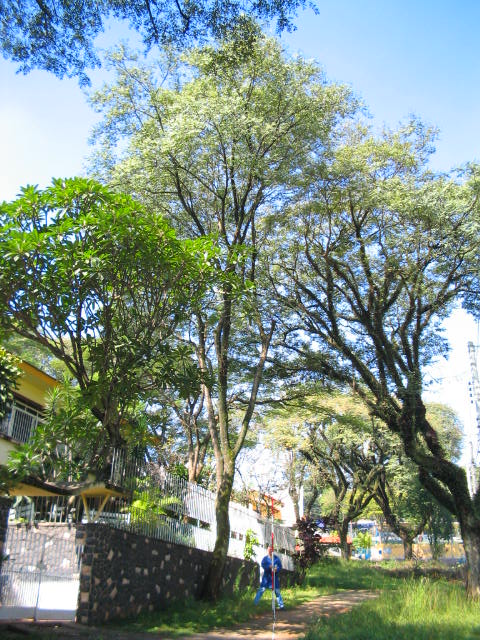crown: (100, 33, 339, 243)
stem: (429, 459, 478, 594), (200, 463, 241, 601)
stick: (265, 499, 280, 608)
tree: (99, 30, 341, 602), (273, 109, 478, 595)
